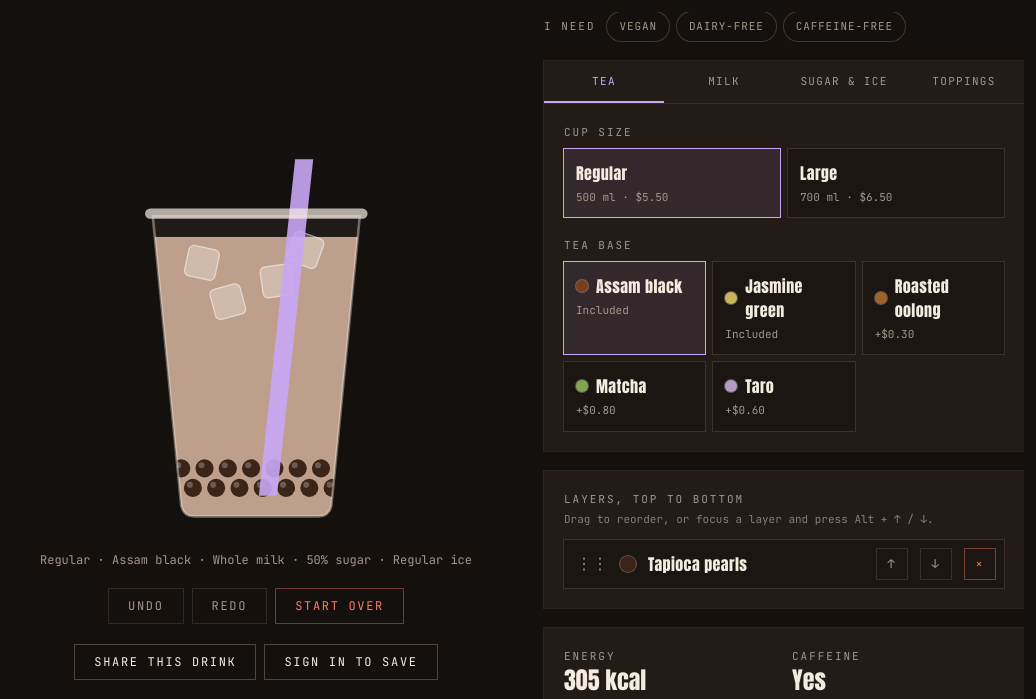
Scenario: <BuilderPage /> › blocks options that break an active dietary filter
What coordinates should you click on to do the following:
click the button "Vegan"
I would click on:
 (638, 26)
Its box is 608,12 -> 669,40.
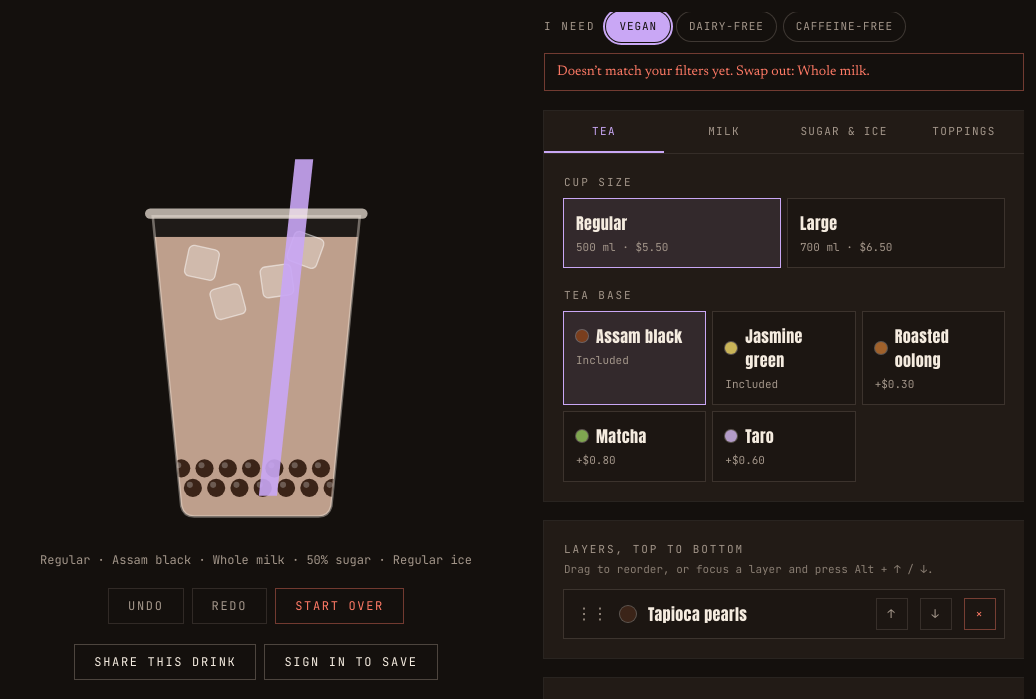
Expected: the message shows "Swap out: Whole milk", 544,52 -> 1024,90
What coordinates should you click on to do the following:
click the tab "Milk"
I would click on:
 (724, 132)
Its box is 664,110 -> 784,153.
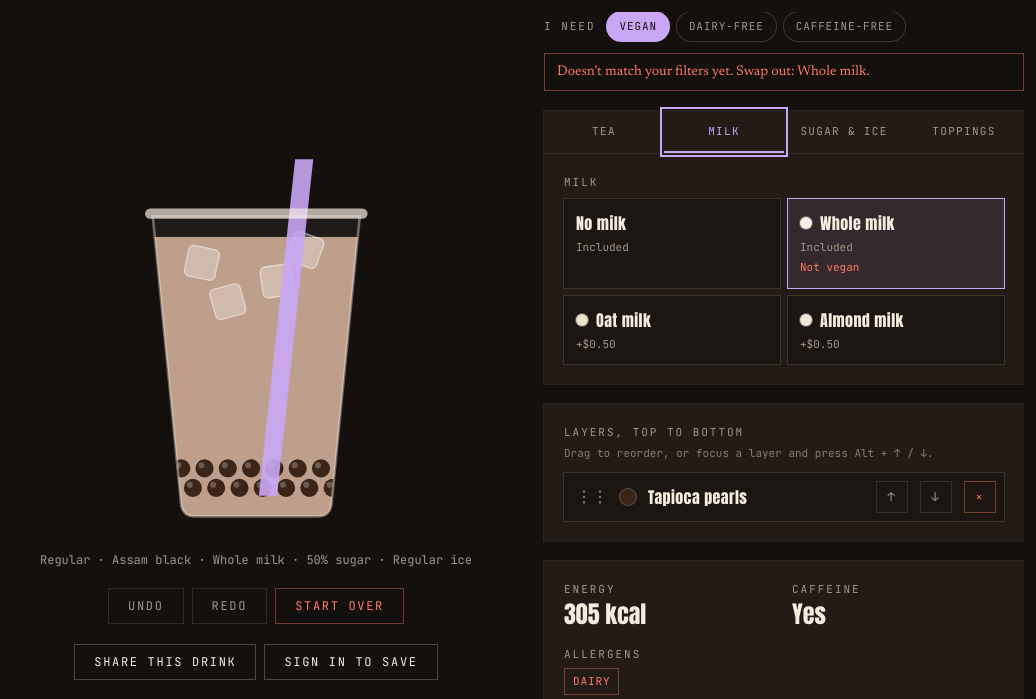
What coordinates should you click on to do the following:
click the radio button labelled "Oat milk +$0.50"
I would click on:
 (672, 330)
Its box is 564,296 -> 780,364.
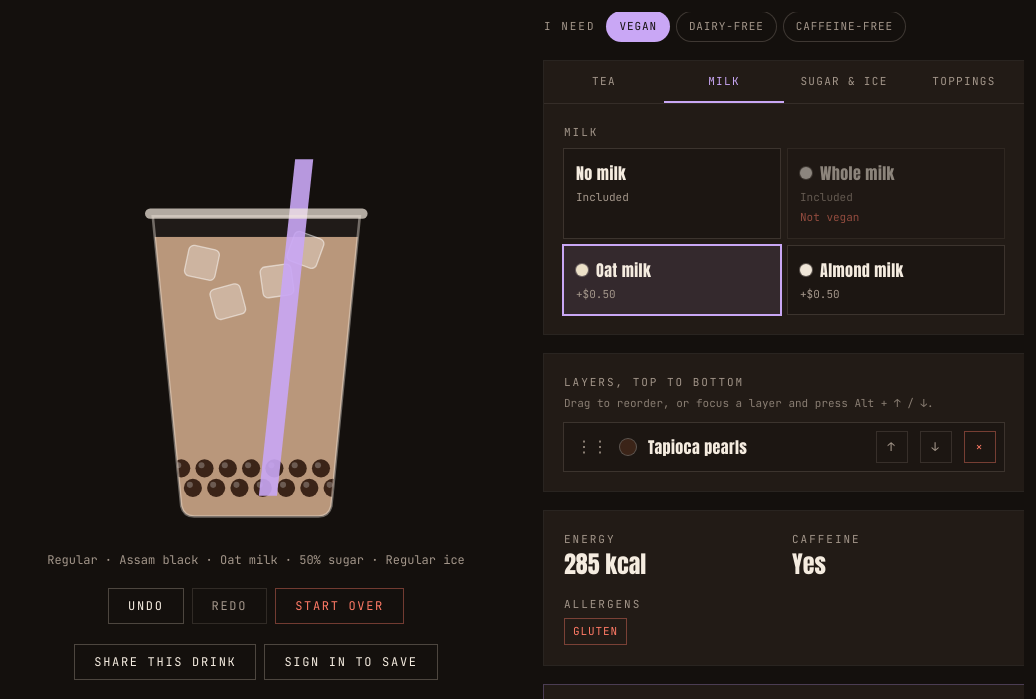
Expected: the message "Doesn’t match your filters yet. Swap out: Whole milk." is gone
Expected: the radio button labelled "Whole milk Included Not vegan" is disabled, 788,148 -> 1004,238
